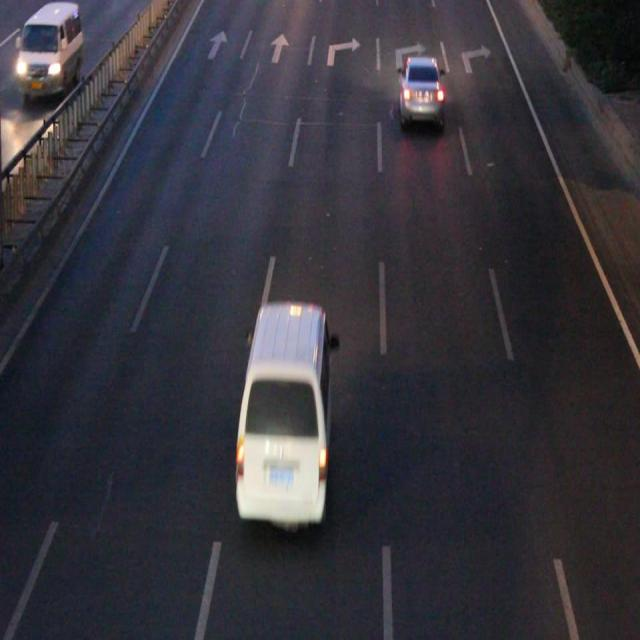car: (397, 57, 441, 124)
truck: (239, 306, 328, 521)
